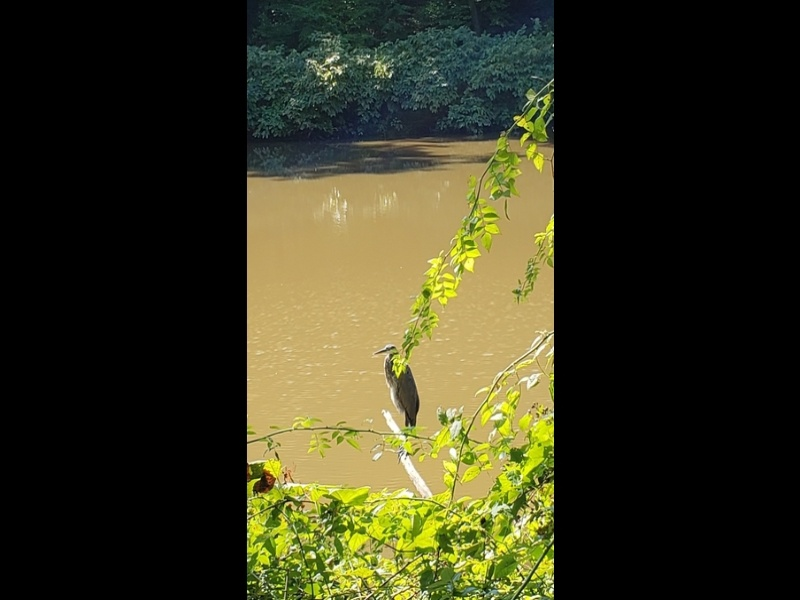heron: (374, 340, 424, 442)
